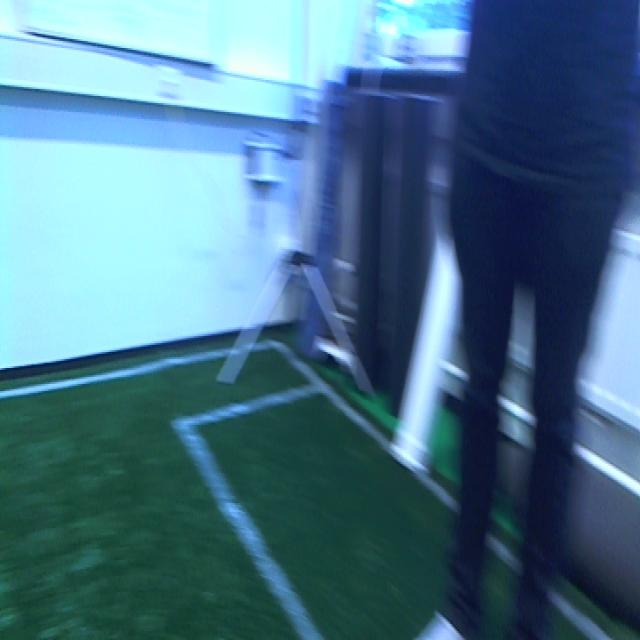goalpost: (389, 130, 491, 476)
